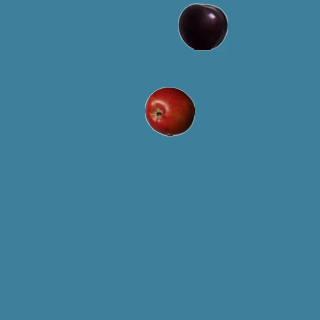Apple Braeburn: (144, 86, 194, 136)
Cherry Wax Black: (177, 1, 227, 51)
